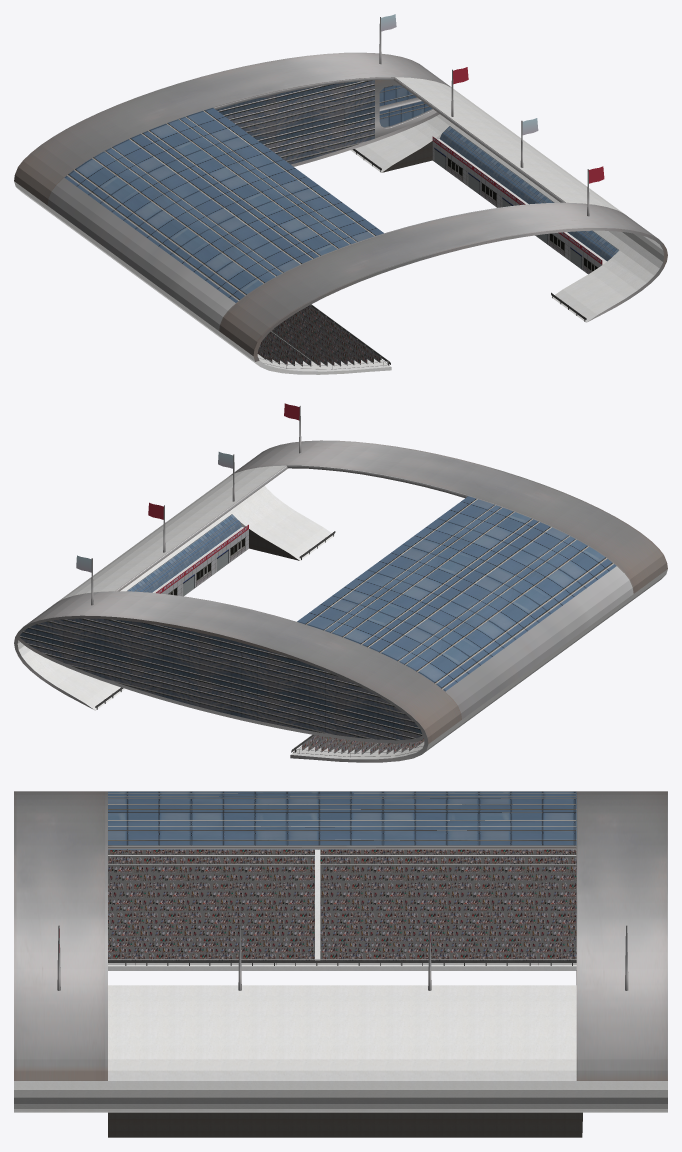
File: Stands02.fbx
3 views of the same model, one above another, from view 1: azimuth 30°, elevation 25°; view 2: azimuth 150°, elevation 25°; view 3: azimuth 270°, elevation 25° (orthographic). The views are drawn at different scales.
Parts seen in each view (by area): view 1: Empty_Mesh; view 2: Empty_Mesh; view 3: Empty_Mesh.
Part boxes in pixels (left/top/right/bottom): Empty_Mesh: left=14, top=14, right=667, bottom=374; Empty_Mesh: left=14, top=403, right=667, bottom=762; Empty_Mesh: left=14, top=791, right=667, bottom=1137.
Bounding box in the file's own units: 95.93 × 30.31 × 96.
